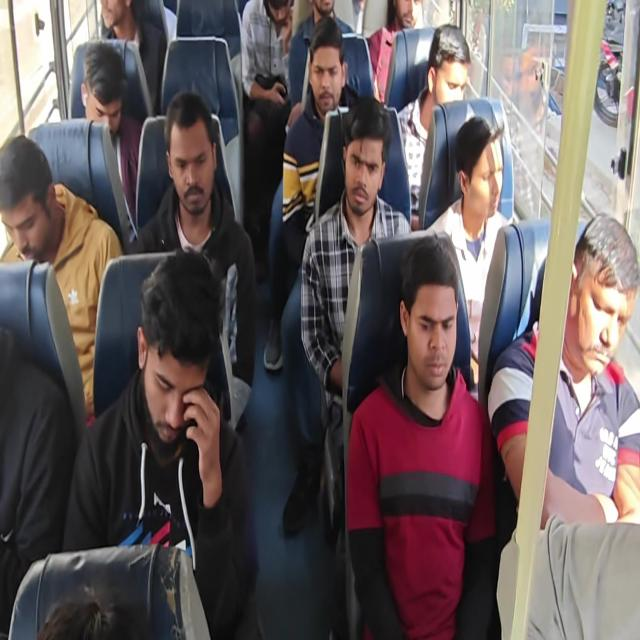person: (124, 243, 203, 457), (566, 200, 639, 412), (399, 236, 470, 394), (1, 122, 62, 264), (162, 93, 220, 209), (70, 33, 127, 144), (449, 109, 505, 221), (338, 94, 392, 208), (423, 18, 471, 114), (306, 13, 342, 114), (90, 0, 143, 40), (316, 1, 370, 34), (256, 0, 306, 28)
